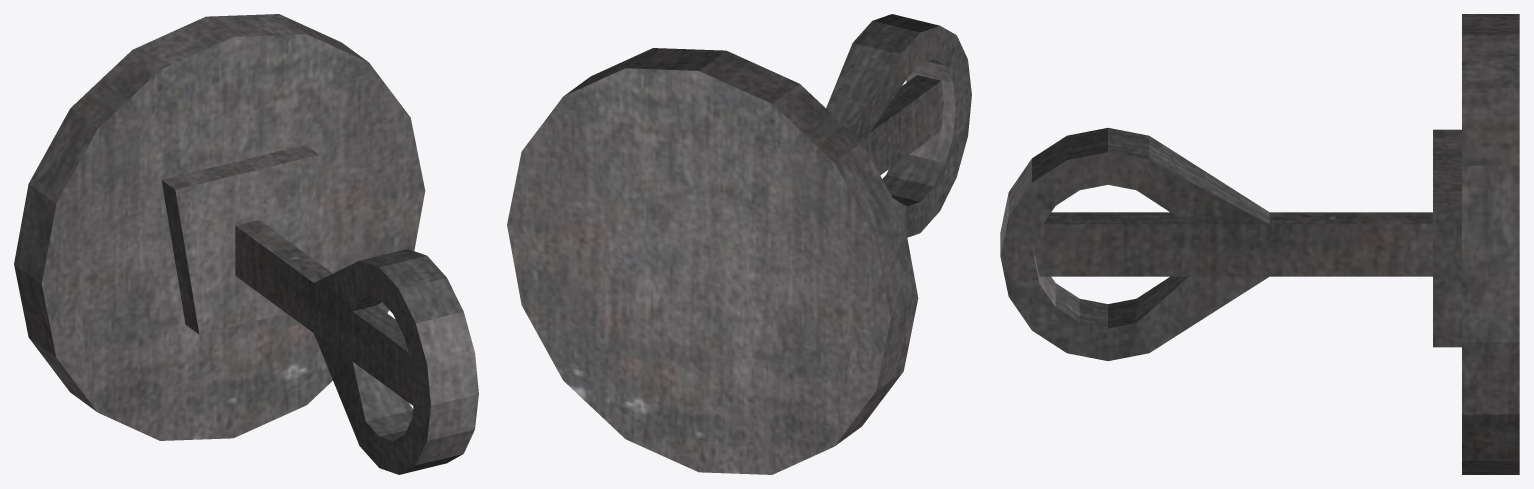
The model's file is 914key.fbx.
The picture shows the model from 3 angles, left to right: view 1: azimuth 30°, elevation 25°; view 2: azimuth 150°, elevation 25°; view 3: azimuth 270°, elevation 25°; orthographic projection. The views are drawn at different scales.
Visible parts, largest first — view 1: Scene_Root; view 2: Scene_Root; view 3: Scene_Root.
Boxes of the visible parts, bbox=[...] form: Scene_Root: bbox=[14, 14, 478, 474]; Scene_Root: bbox=[507, 14, 971, 474]; Scene_Root: bbox=[1000, 14, 1519, 474].
Bounding box in the file's own units: 16 × 16 × 18.
